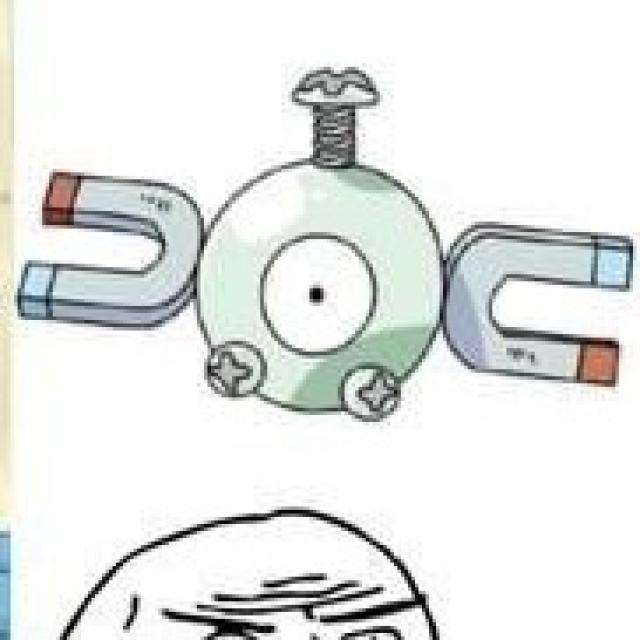Magnemite: (16, 83, 628, 417)
